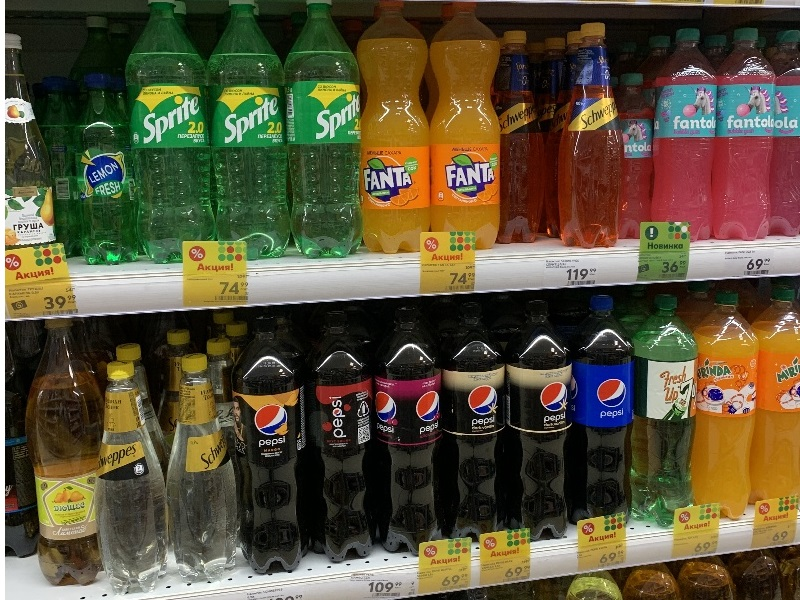lemonade: (123, 1, 225, 274), (342, 1, 440, 265), (201, 1, 298, 267), (277, 1, 368, 263), (228, 319, 317, 584), (294, 313, 383, 571), (425, 1, 509, 264), (368, 311, 449, 561), (498, 298, 578, 550), (565, 293, 638, 546), (629, 292, 701, 535), (440, 306, 511, 550), (693, 294, 764, 536), (557, 20, 627, 263), (649, 24, 722, 248), (713, 25, 783, 250), (69, 73, 148, 271)
